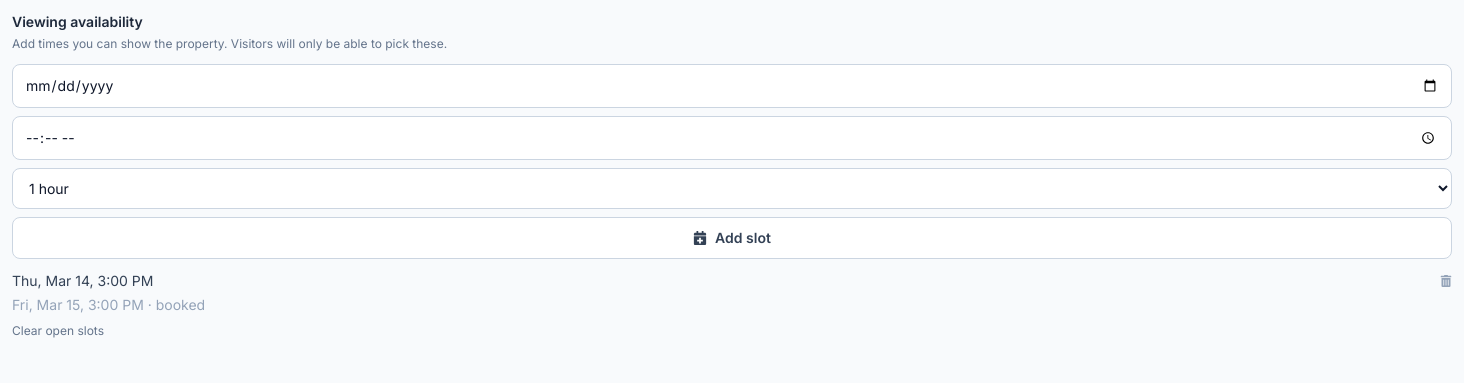
Test case: ListingAvailability › asks for a date and time before adding
Check: the text "Fri, Mar 15, 3:00 PM · booked" is shown, box [12,295,205,315]
Click the button "Add slot" at (732, 238), box [12,217,1452,259]
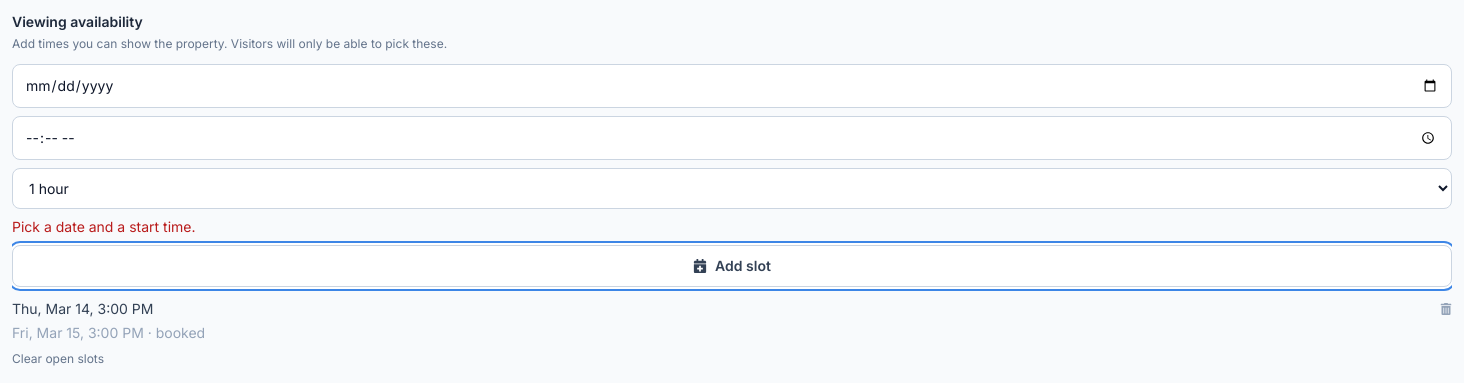
Check: the text "Pick a date and a start time." is shown, box [12,218,196,235]
